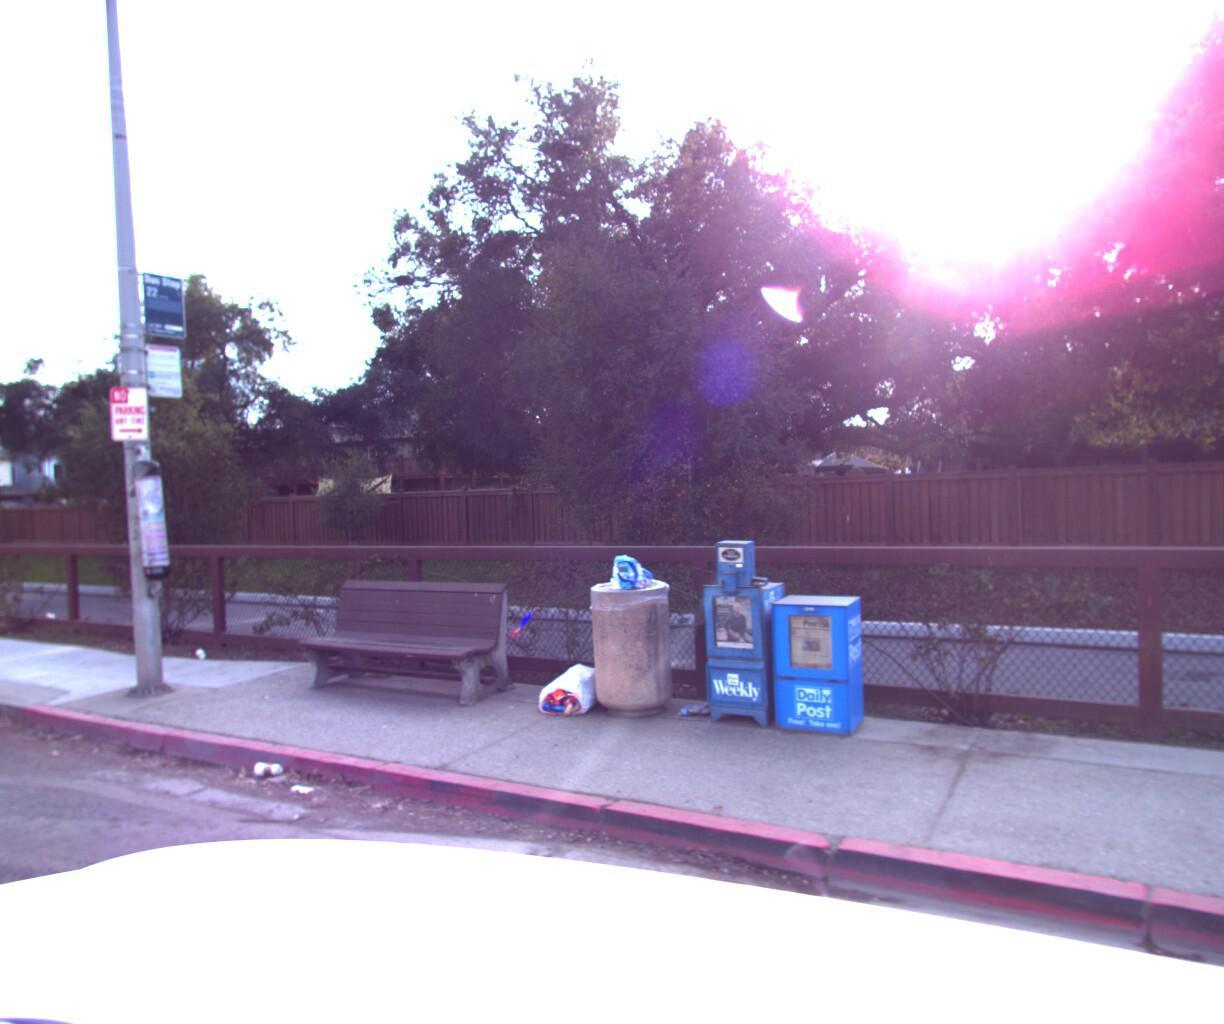bus: (881, 453, 1009, 498)
